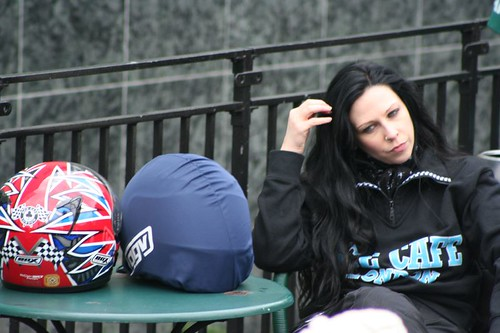helmet: (0, 153, 116, 291)
